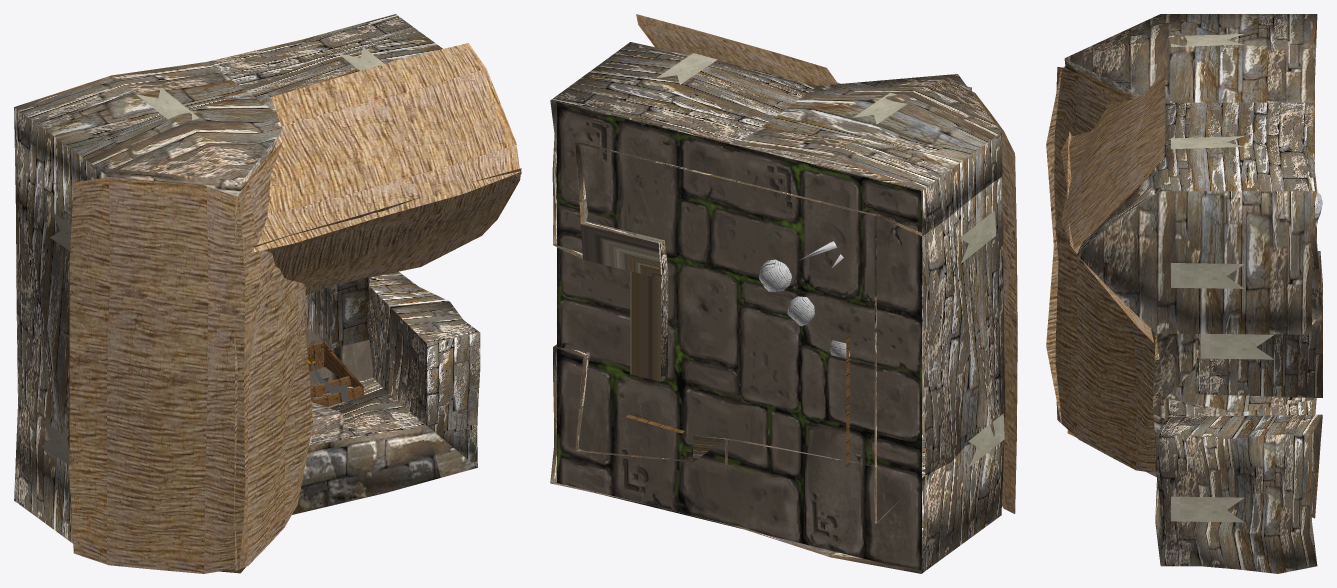
Rendered from barracks_000050.obj.
3 views of the same model, side by side, from view 1: azimuth 30°, elevation 25°; view 2: azimuth 150°, elevation 25°; view 3: azimuth 270°, elevation 25° (orthographic). The views are drawn at different scales.
Visible parts, largest first — view 1: Plane.001, Plane.018, Cube.006_Cube.001, Plane.016, Cube.008_Cube.006, Cube.007_Cube.003, Plane.017, Cube.000_Cube.007, Cube.004_Cube.002, Cube.005_Cube.009, Cube.003_Cube.005, Plane (+2 smaller); view 2: Plane, Cube.008_Cube.006, Cube.006_Cube.001, Cube.007_Cube.003, Cube.005_Cube.009, Plane.001, Plane.018, Sphere.002, Plane.022_Plane.032, Plane.021_Plane.031, Plane.024_Plane.035, Sphere.001 (+1 smaller); view 3: Cube.008_Cube.006, Plane.016, Cube.006_Cube.001, Plane.018, Cube.000_Cube.007, Cube.005_Cube.009, Plane.001, Plane.019_Plane.028, Plane.026, Plane.027, Plane.017, Plane.024_Plane.035 (+1 smaller).
Boxes of the visible parts, bbox=[...] form: Plane.001: bbox=[69, 177, 245, 573]; Plane.018: bbox=[251, 43, 519, 252]; Cube.006_Cube.001: bbox=[14, 62, 282, 196]; Plane.016: bbox=[234, 141, 312, 570]; Cube.008_Cube.006: bbox=[207, 14, 521, 394]; Cube.007_Cube.003: bbox=[15, 155, 72, 449]; Plane.017: bbox=[252, 168, 521, 295]; Cube.000_Cube.007: bbox=[390, 301, 480, 477]; Cube.004_Cube.002: bbox=[324, 388, 440, 502]; Cube.005_Cube.009: bbox=[14, 377, 382, 573]; Cube.003_Cube.005: bbox=[307, 341, 364, 406]; Plane: bbox=[305, 272, 395, 384]; Plane: bbox=[557, 102, 921, 570]; Cube.008_Cube.006: bbox=[550, 42, 817, 451]; Cube.006_Cube.001: bbox=[725, 74, 1002, 235]; Cube.007_Cube.003: bbox=[874, 176, 1005, 524]; Cube.005_Cube.009: bbox=[550, 417, 1005, 573]; Plane.001: bbox=[970, 90, 1017, 513]; Plane.018: bbox=[636, 14, 840, 85]; Sphere.002: bbox=[759, 241, 837, 291]; Plane.022_Plane.032: bbox=[960, 211, 995, 263]; Plane.021_Plane.031: bbox=[968, 413, 1004, 466]; Plane.024_Plane.035: bbox=[656, 53, 717, 84]; Sphere.001: bbox=[787, 254, 843, 325]; Cube.008_Cube.006: bbox=[1077, 102, 1322, 533]; Plane.016: bbox=[1054, 67, 1156, 472]; Cube.006_Cube.001: bbox=[1064, 14, 1317, 145]; Plane.018: bbox=[1061, 72, 1165, 250]; Cube.000_Cube.007: bbox=[1155, 415, 1247, 569]; Cube.005_Cube.009: bbox=[1067, 333, 1317, 573]; Plane.001: bbox=[1046, 66, 1158, 422]; Plane.019_Plane.028: bbox=[1200, 334, 1274, 359]; Plane.026: bbox=[1171, 496, 1244, 522]; Plane.027: bbox=[1171, 263, 1244, 288]; Plane.017: bbox=[1067, 131, 1153, 342]; Plane.024_Plane.035: bbox=[1171, 136, 1244, 149].
Size of the model in its own units: 7.25 by 7.35 by 4.41.
